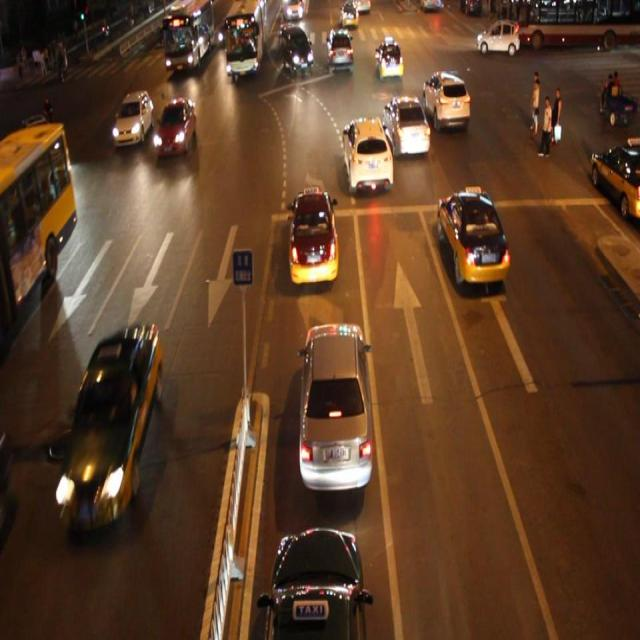car: (55, 326, 163, 527), (297, 319, 373, 495), (260, 526, 367, 640), (438, 189, 507, 284), (287, 188, 339, 284), (344, 118, 394, 191), (382, 95, 430, 154), (423, 72, 469, 129), (154, 99, 199, 156), (113, 91, 152, 145), (280, 28, 314, 75), (374, 41, 405, 82), (328, 30, 353, 67)
van: (1, 123, 77, 343), (164, 1, 212, 65), (226, 1, 267, 69)
